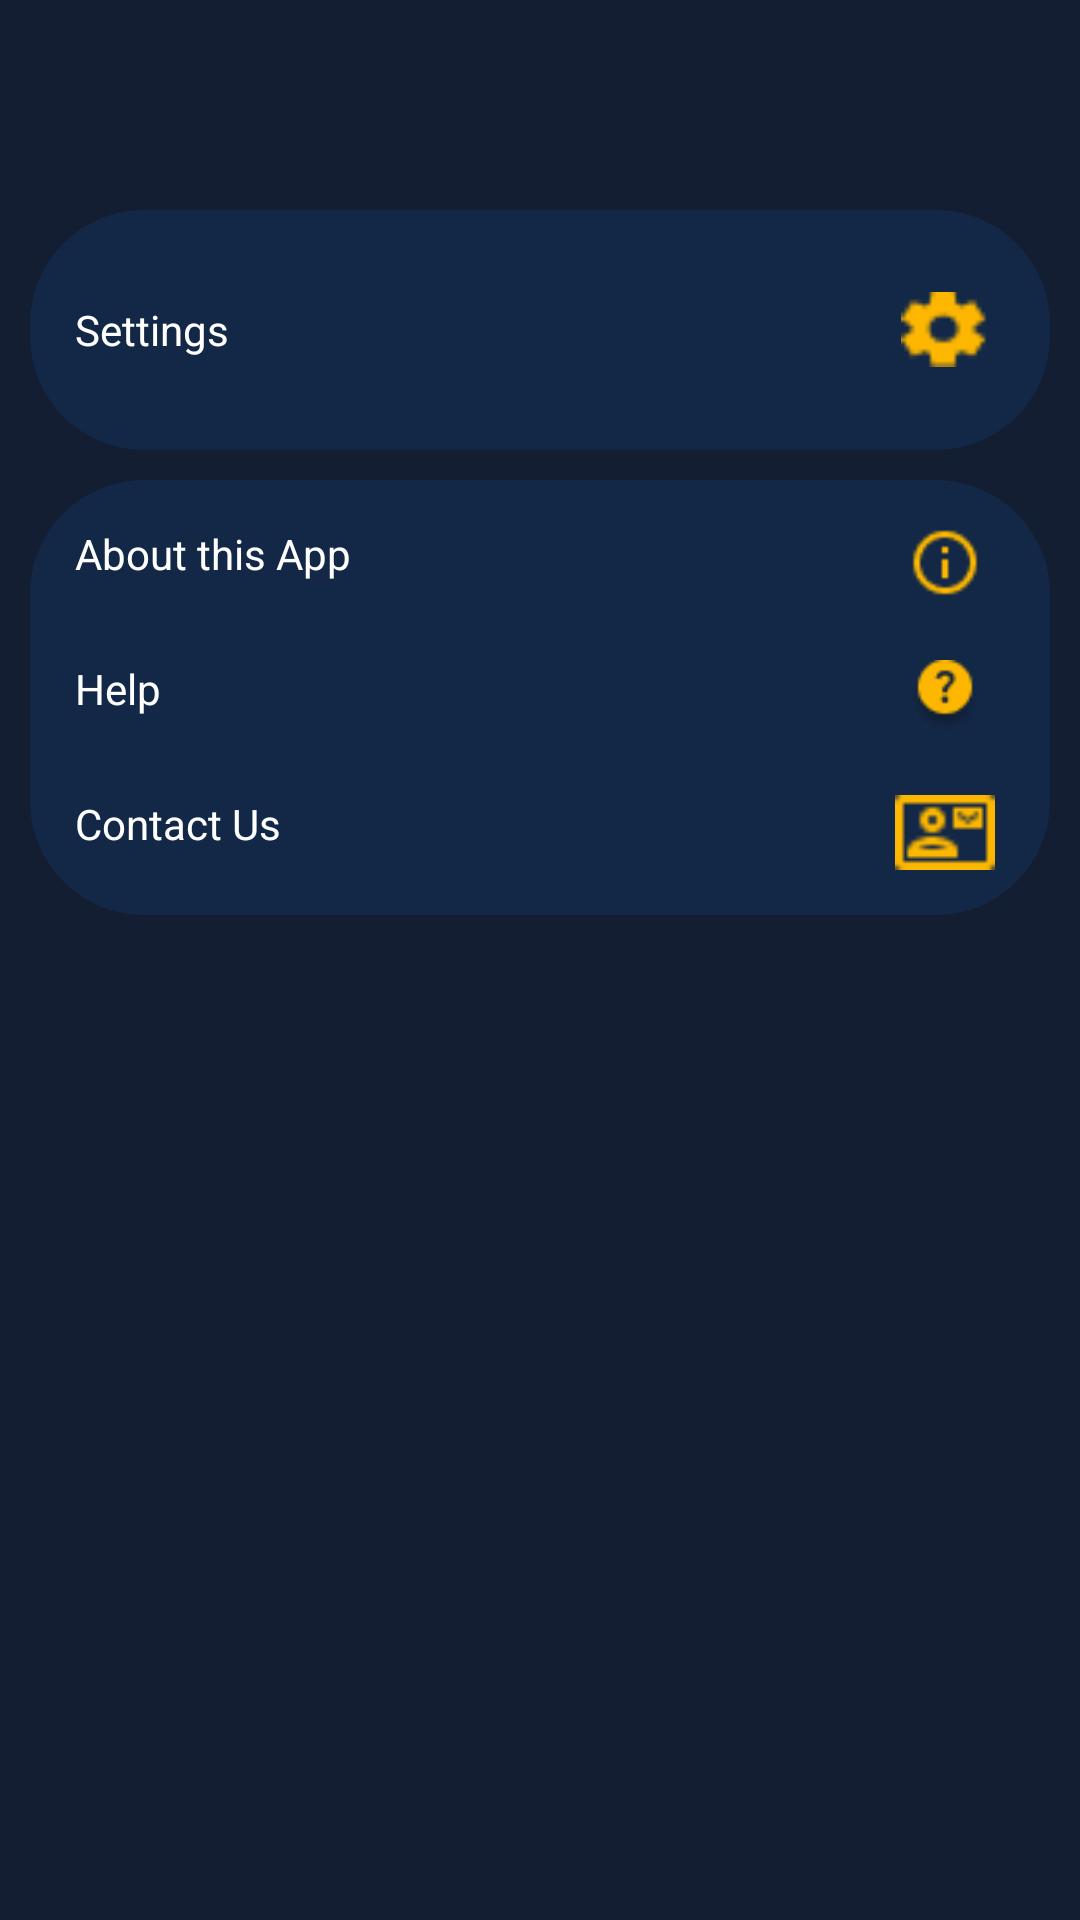

Named icons in this screenshot (1080x1920) and their bounding boxes, (x1, y1, x2, y2):
contantus: (895, 795, 995, 870)
setttings: (901, 292, 986, 367)
